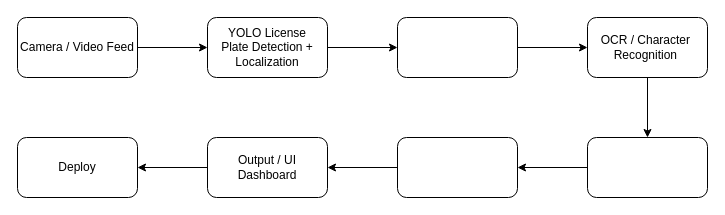
Some shapes in this 725 by 215 pixel diagram are drawn without their labels. The centre of each missing label's shape, as x and y in pixels:
"Billing Engine" belongs at point (457, 167).
"Database Storage" belongs at point (647, 167).
"Plate Cropping & Preprocessing" belongs at point (457, 47).
